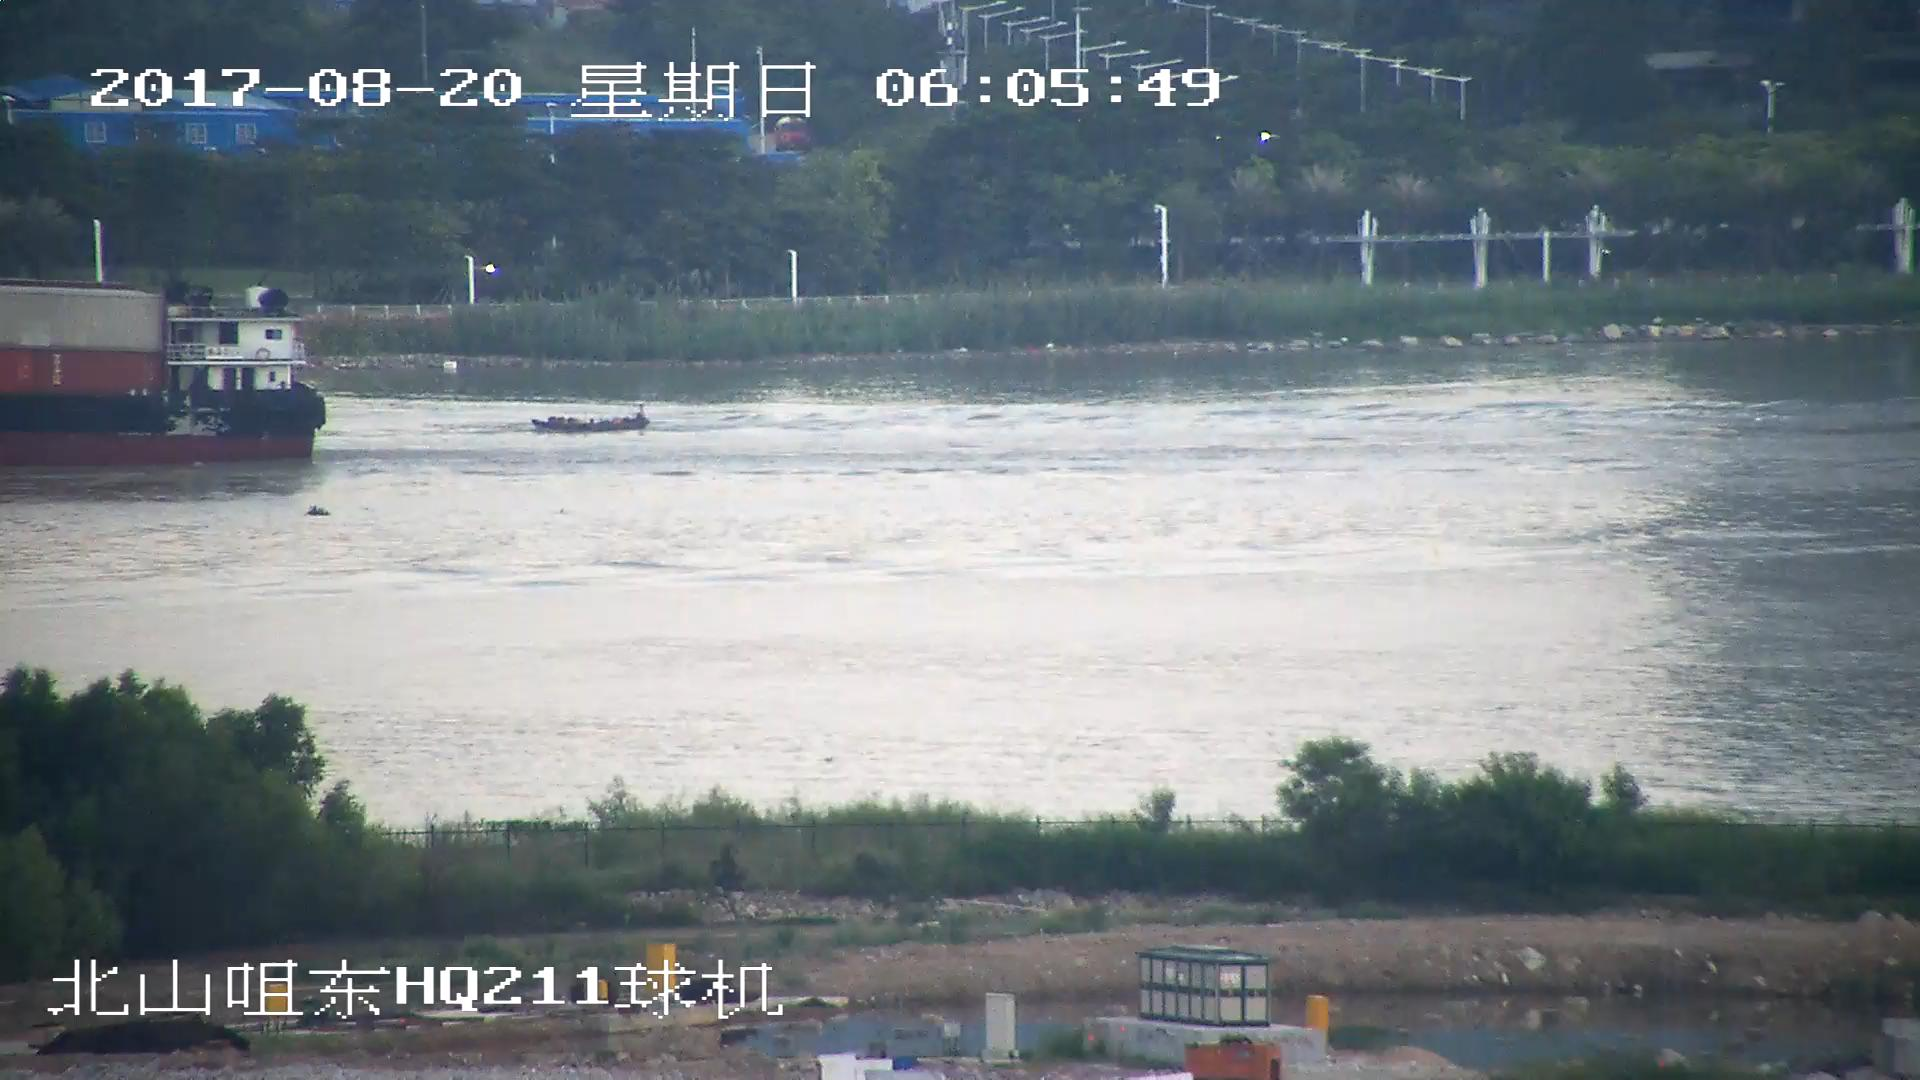container ship: (1, 276, 316, 475)
fishing boat: (529, 405, 646, 437)
